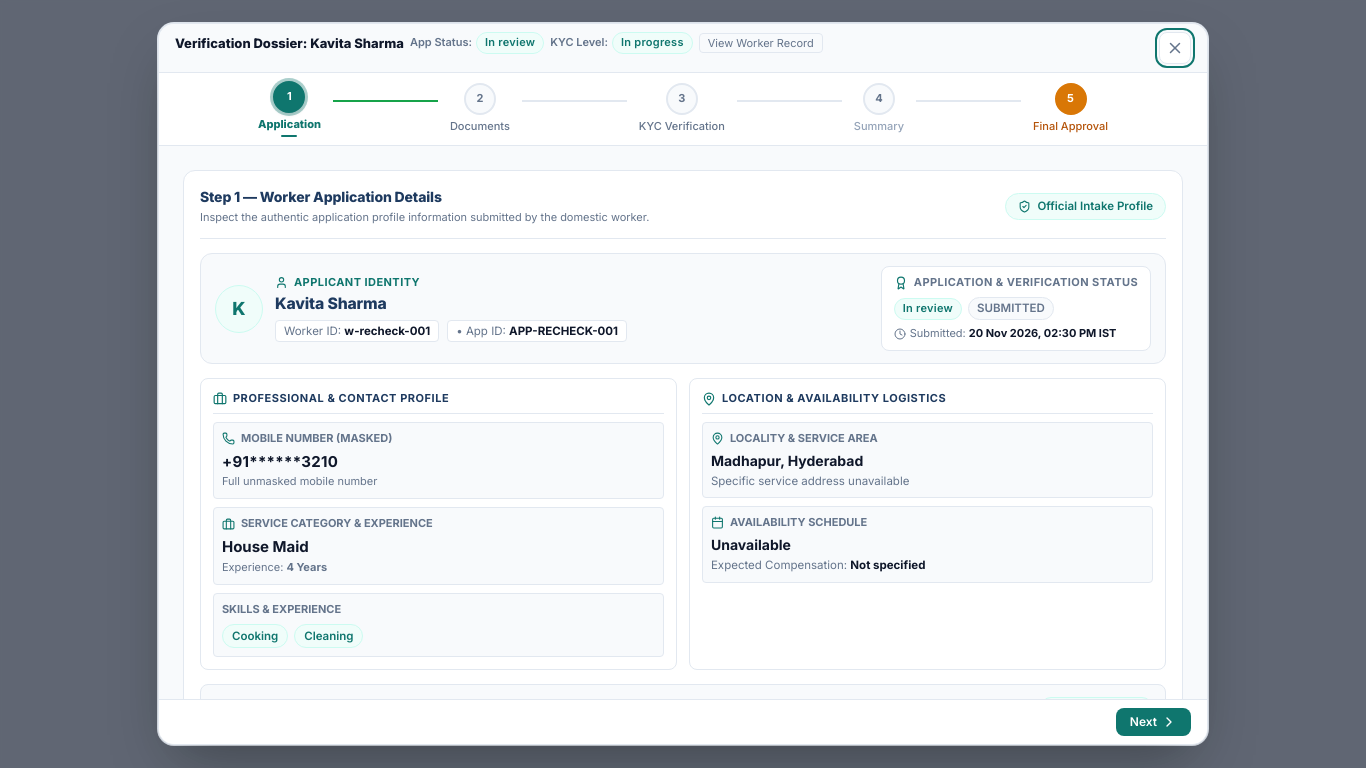
it: Simplified KYC Verification Page & Document Re-verification › 2. Document Re-verification Workflow & Backend Integration › submits re-verification for an APPROVED document in Step 2, shows actual backend status, and prevents duplicates
The width and height of the screenshot is (1366, 768).
Click the element with test id "step-bubble-2" at (480, 109), box [450,83,510,135]
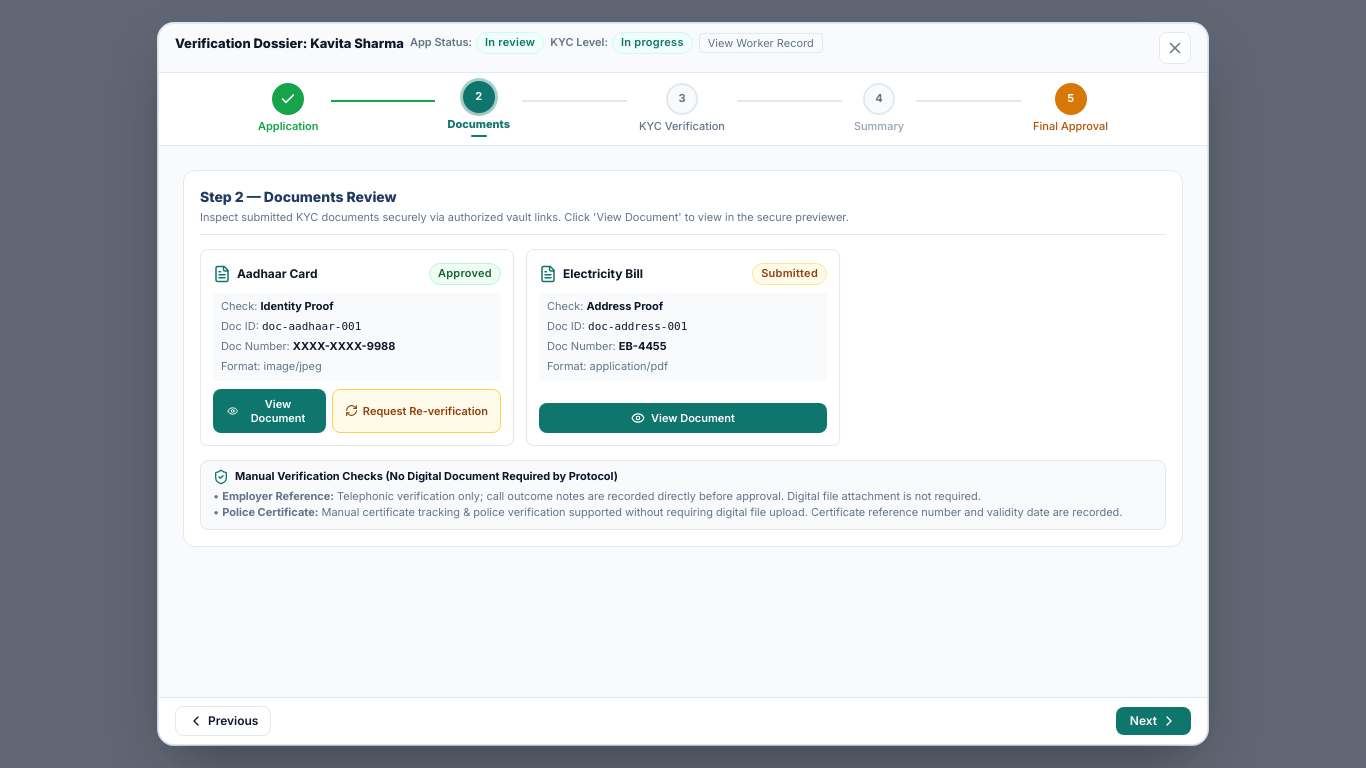
Check: the heading "Step 2 — Documents Review" is shown, box [200,188,397,205]
Click the button with test id "request-reverification-doc-doc-aadhaar-001" at (416, 411), box [332,389,501,433]
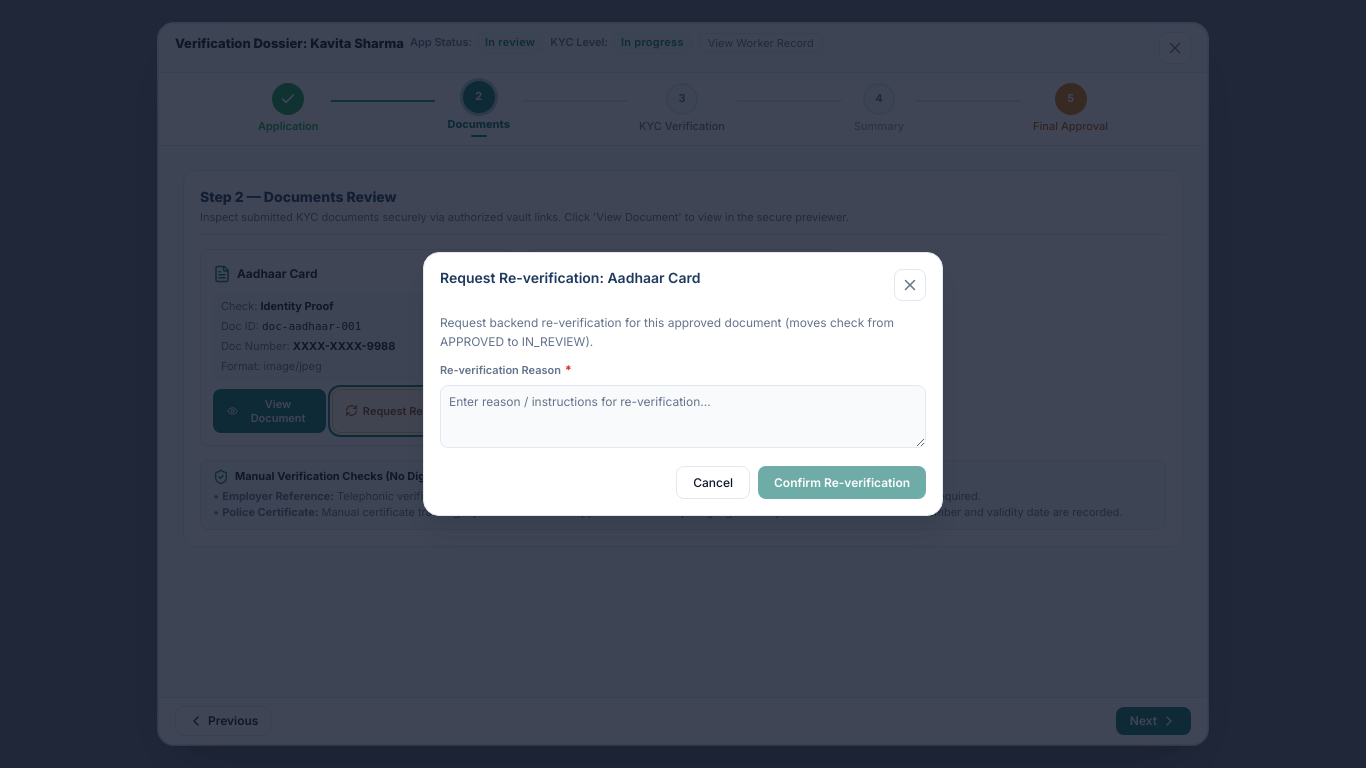
Check: the button "Confirm Re-verification" is disabled, box [758,466,926,499]
Type "Aadhaar photo expired; re-verify clear scan" into the text box with placeholder "Enter reason / instructions for re-verification..." at (683, 417), box [440,385,926,448]
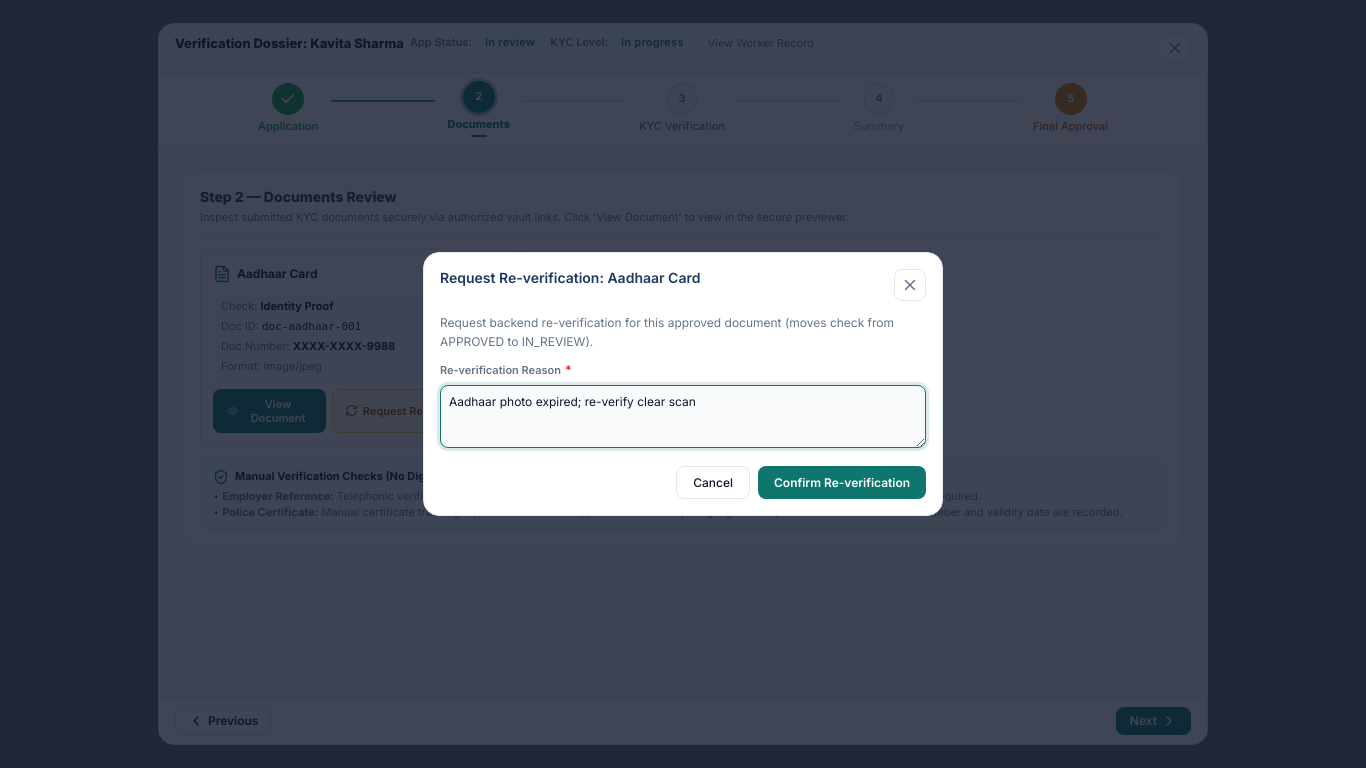
Check: the button "Confirm Re-verification" is enabled
Click the button "Confirm Re-verification" at (842, 483), box [758,466,926,499]
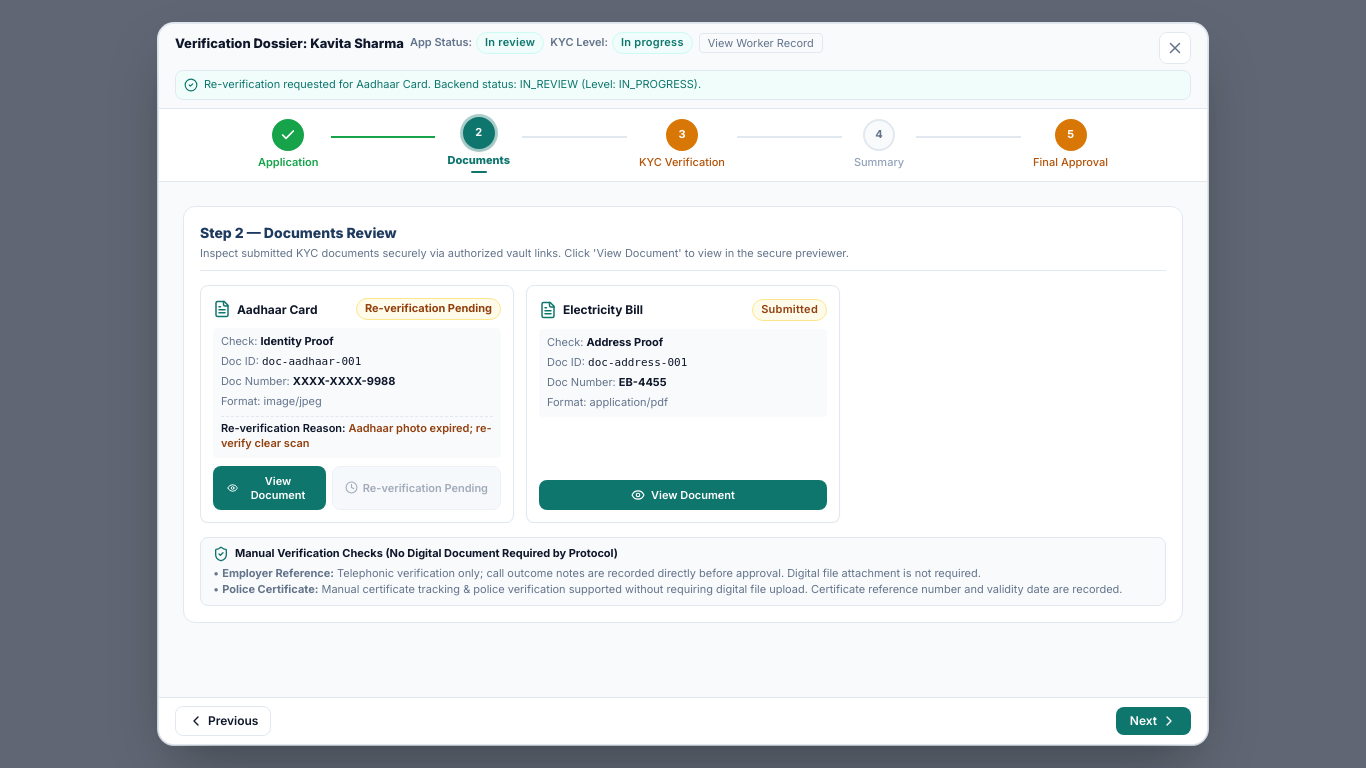
Check: the text "Backend status: IN_REVIEW (Level: IN_PROGRESS)" is shown, box [204,77,701,91]
Check: the text with test id "recheck-pending-badge-IDENTITY" reads "Re-verification Pending", box [365,301,492,315]
Check: the button with test id "request-reverification-doc-doc-aadhaar-001" is gone
